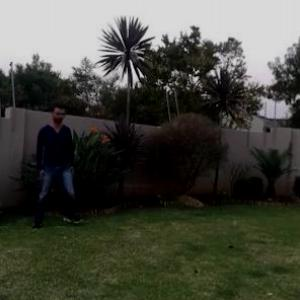follow: (35, 93, 75, 231)
